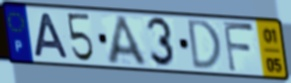3: (144, 16, 177, 70)
5: (65, 11, 95, 63)
A: (106, 14, 151, 68), (32, 12, 71, 61)
D: (187, 18, 224, 72)
F: (221, 20, 257, 75)
